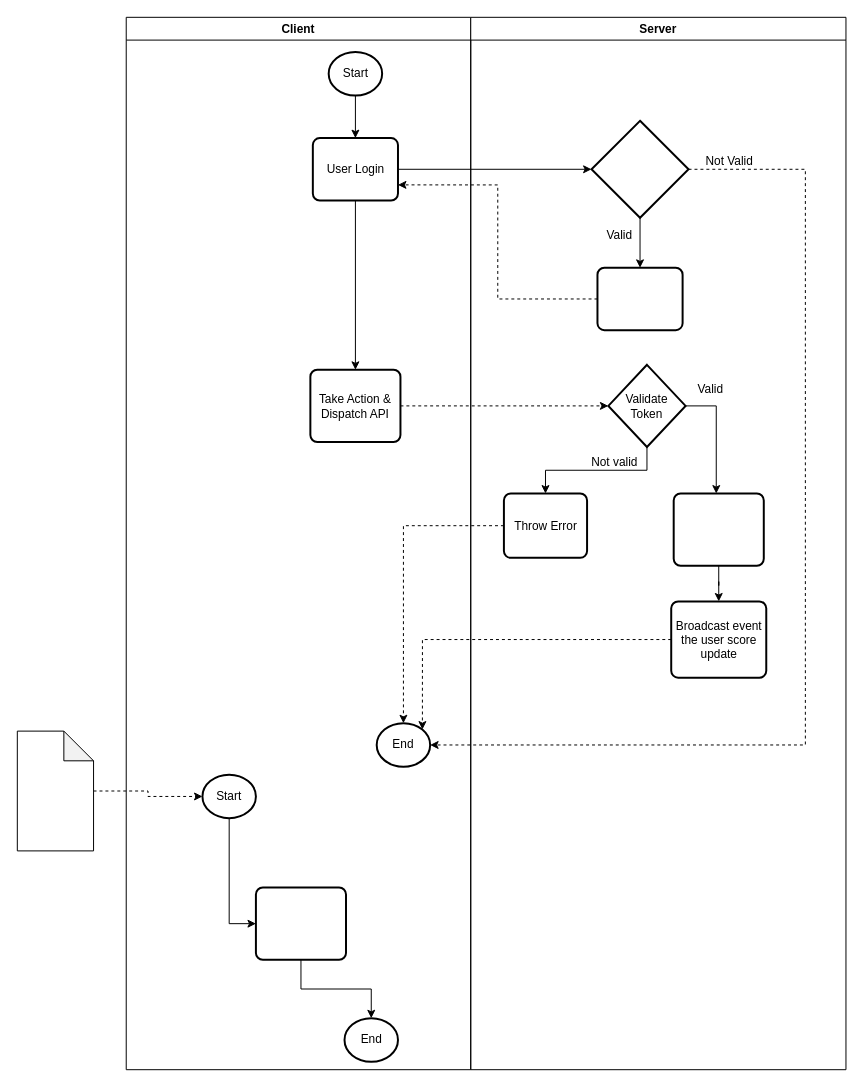
Image size: 863x1087. Some labels were removed from this diagram. The centre of each missing label's shape, as x and y in pixels:
"Calculate & Update Scores" belongs at (718,529).
"Generate JWT Token" belongs at (639,298).
"Notes: Listen event update user scores" belongs at (55,790).
"Update The Board Scores" belongs at (300,923).
"Validate Credentials" belongs at (639,168).
